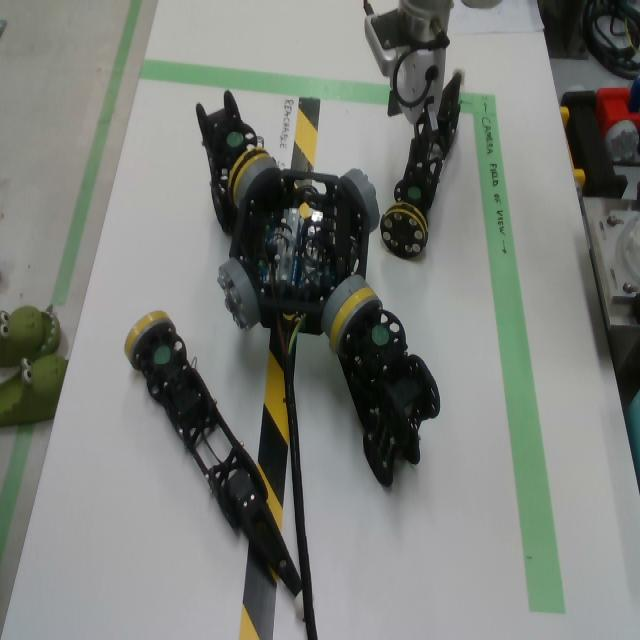body: (229, 171, 369, 336)
body_connector: (217, 259, 261, 331), (321, 275, 367, 337), (340, 169, 381, 233), (235, 157, 281, 209)
gripper: (387, 49, 446, 161)
leg: (124, 311, 304, 621), (330, 287, 441, 488), (380, 65, 467, 257), (196, 91, 270, 237)
leg_connector: (330, 287, 383, 353), (124, 311, 176, 371), (380, 203, 429, 259), (228, 148, 272, 205)
leg_marker: (372, 325, 389, 345), (154, 345, 170, 364), (227, 132, 243, 147), (408, 187, 421, 199)
